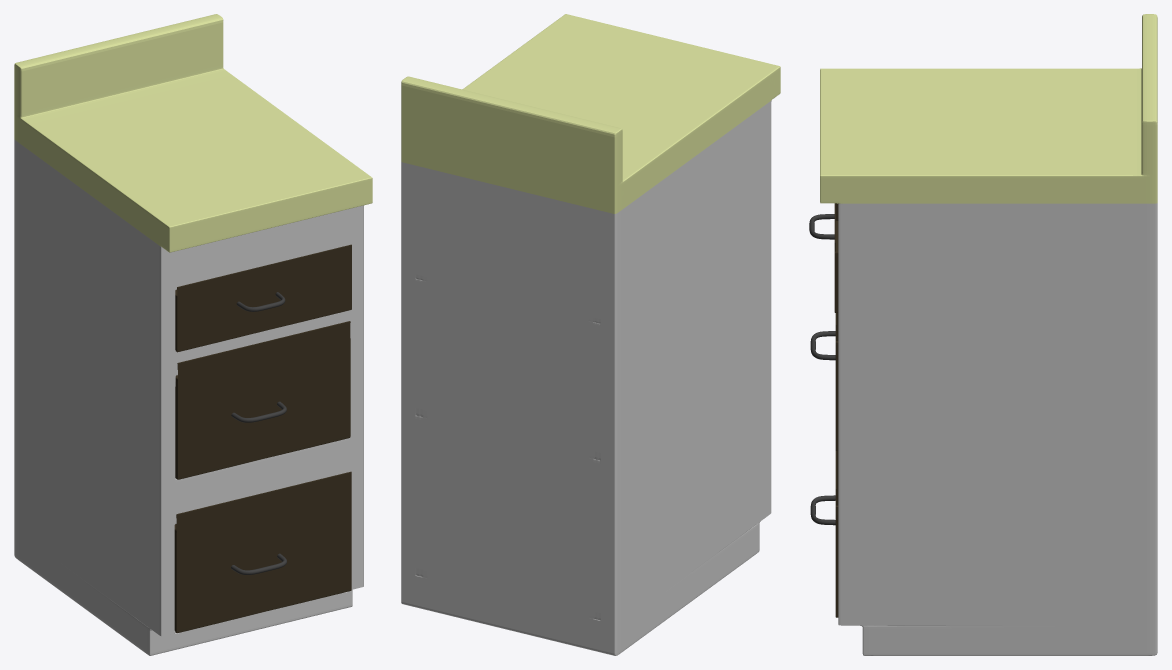
The model's file is Cupboard1.fbx.
3 renders of one model, left to right at view 1: azimuth 30°, elevation 25°; view 2: azimuth 150°, elevation 25°; view 3: azimuth 270°, elevation 25°, orthographic. The views are drawn at different scales.
Visible parts, largest first — view 1: Cabinet, Drawer1.003, Drawer1.002, Drawer1; view 2: Cabinet; view 3: Cabinet, Drawer1.003, Drawer1.002, Drawer1.
Part boxes in pixels (x1,y1,x2,y2): Cabinet: (14,14,372,655); Drawer1.003: (174,471,351,633); Drawer1.002: (175,321,350,479); Drawer1: (175,244,351,352); Cabinet: (401,14,780,655); Cabinet: (820,14,1157,655); Drawer1.003: (835,451,838,617); Drawer1.002: (835,313,838,450); Drawer1: (834,203,838,312).
Size of the model in its own units: 45.92 by 107 by 62.9.
